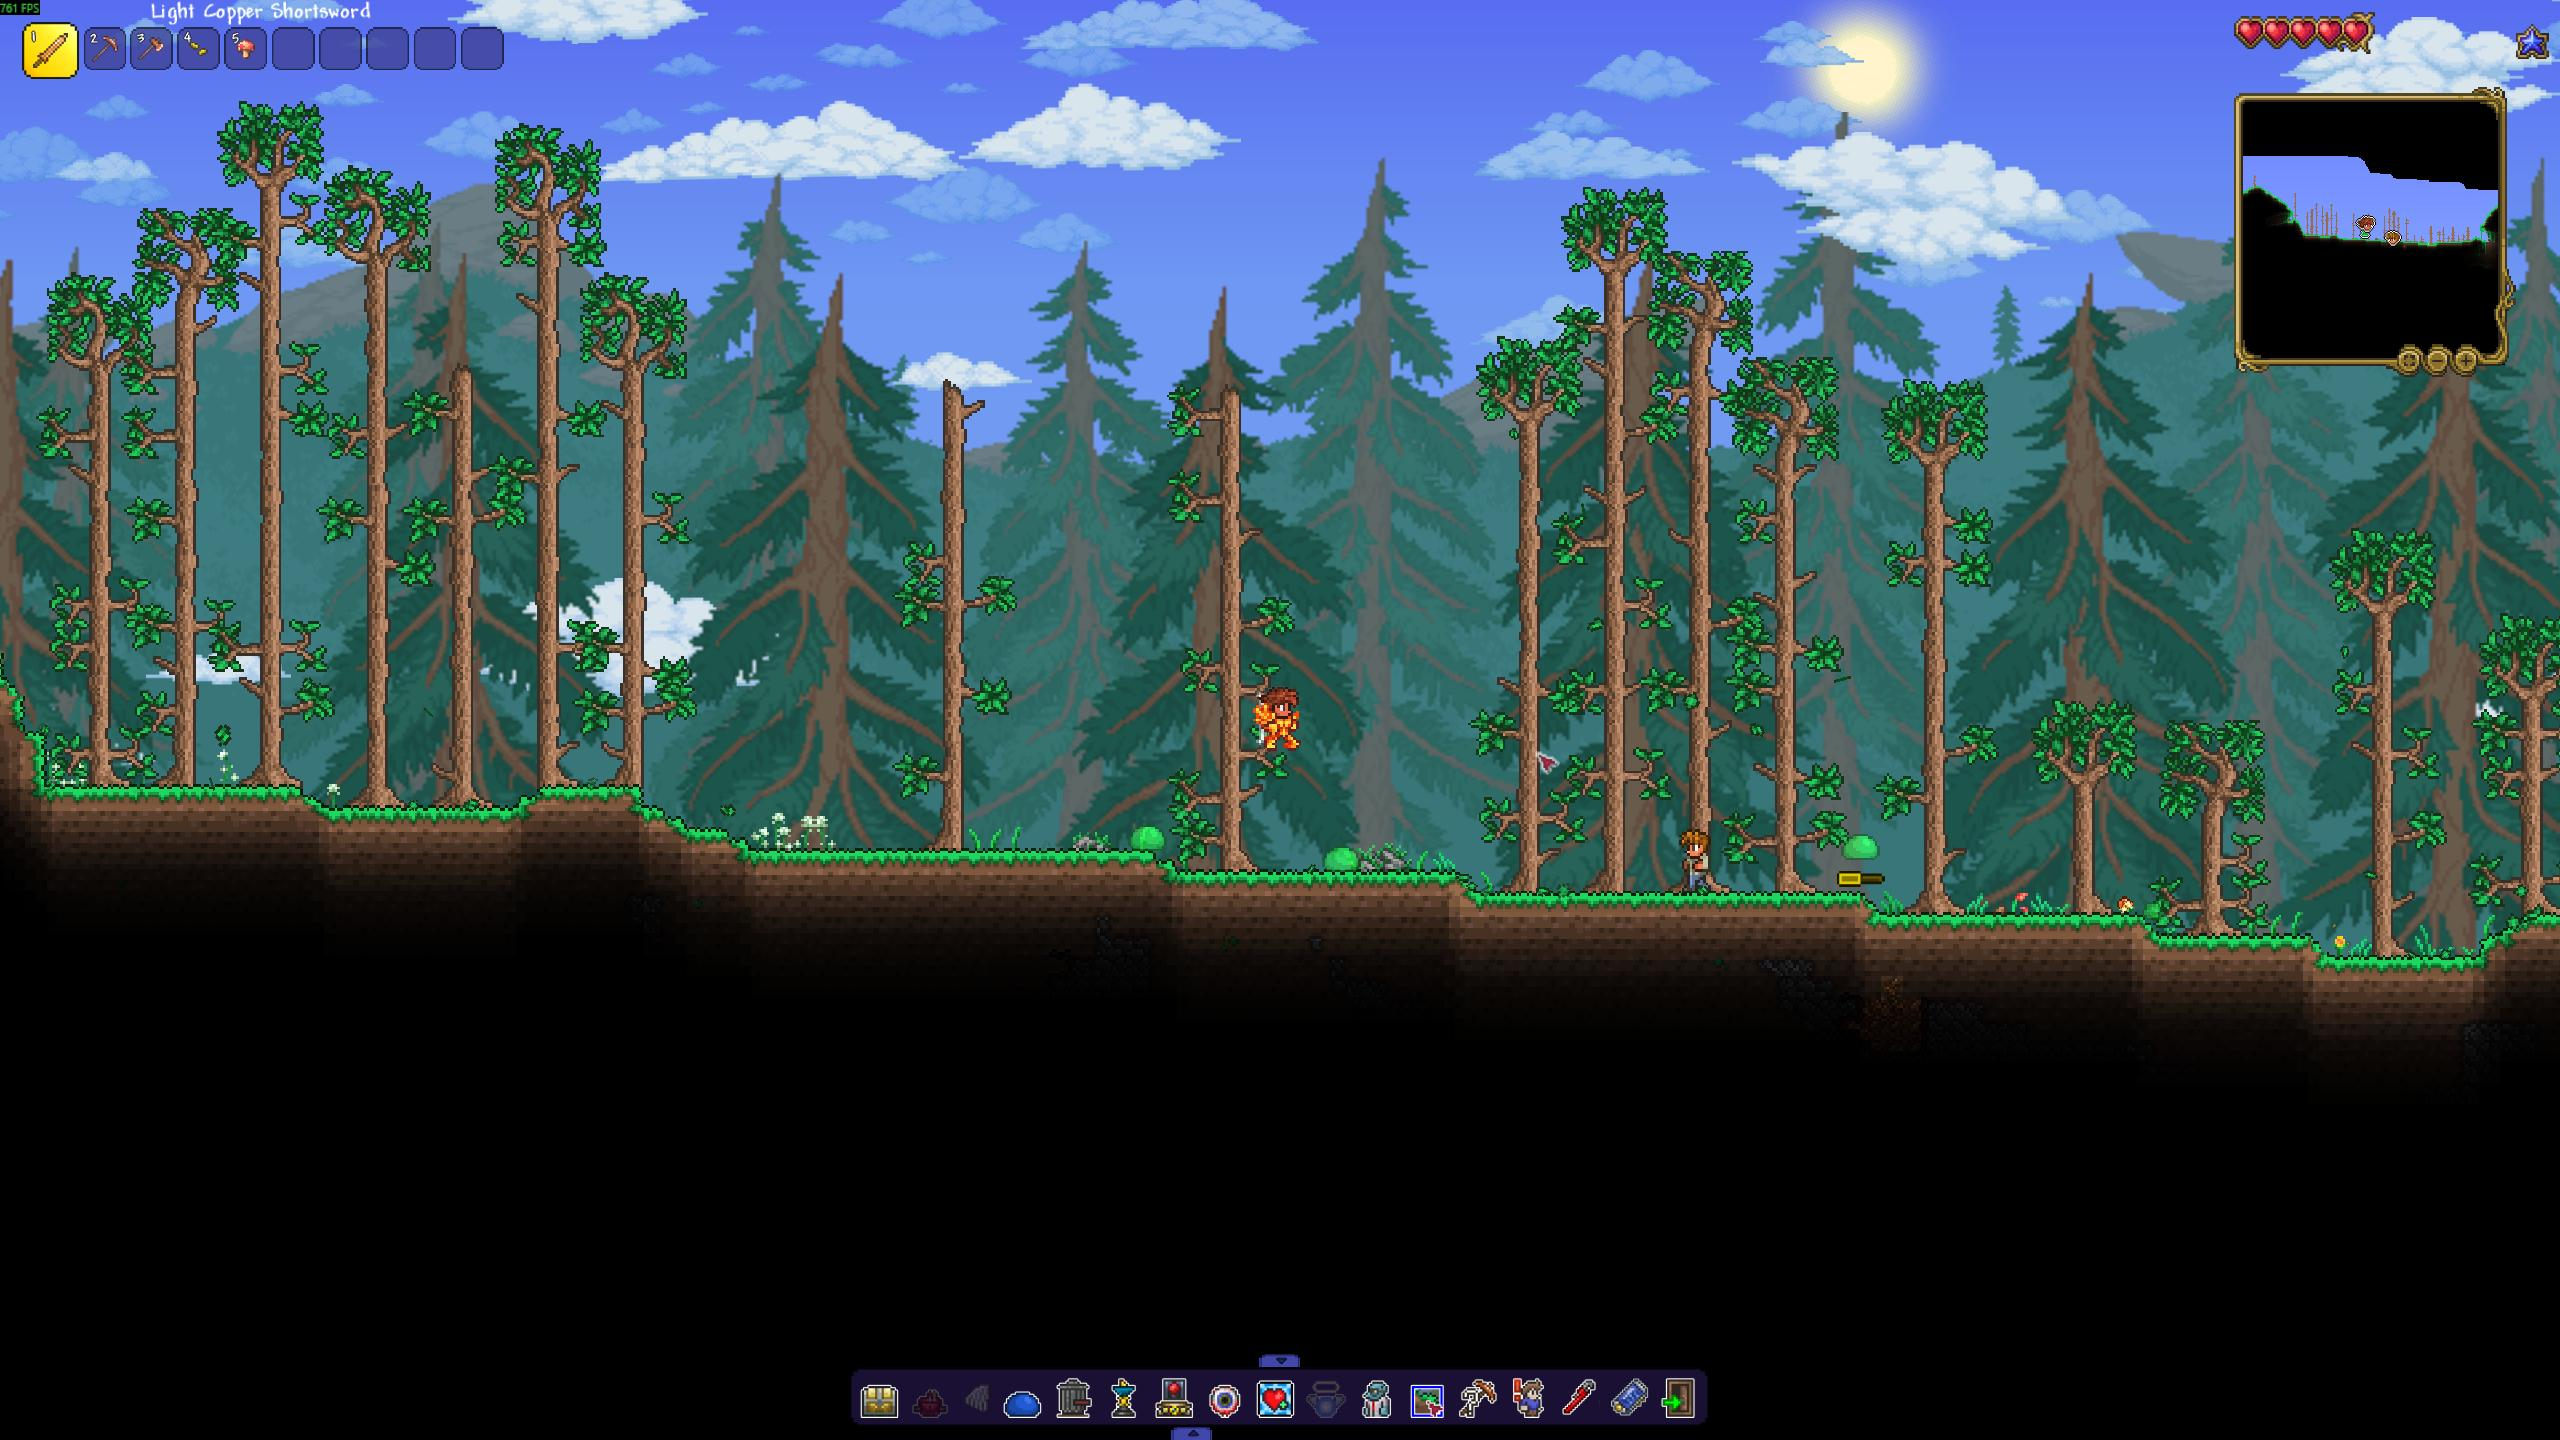Green Slime: (1841, 830, 1881, 863), (1127, 823, 1167, 853), (1322, 842, 1363, 872)
